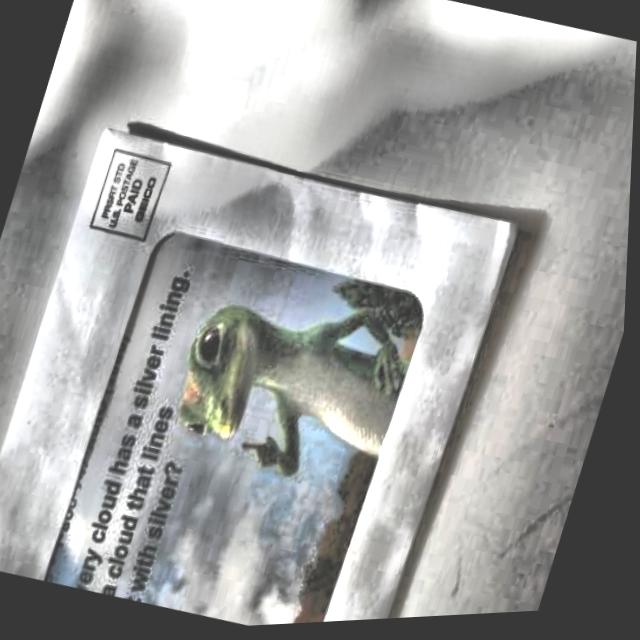Paper: (0, 59, 568, 640)
